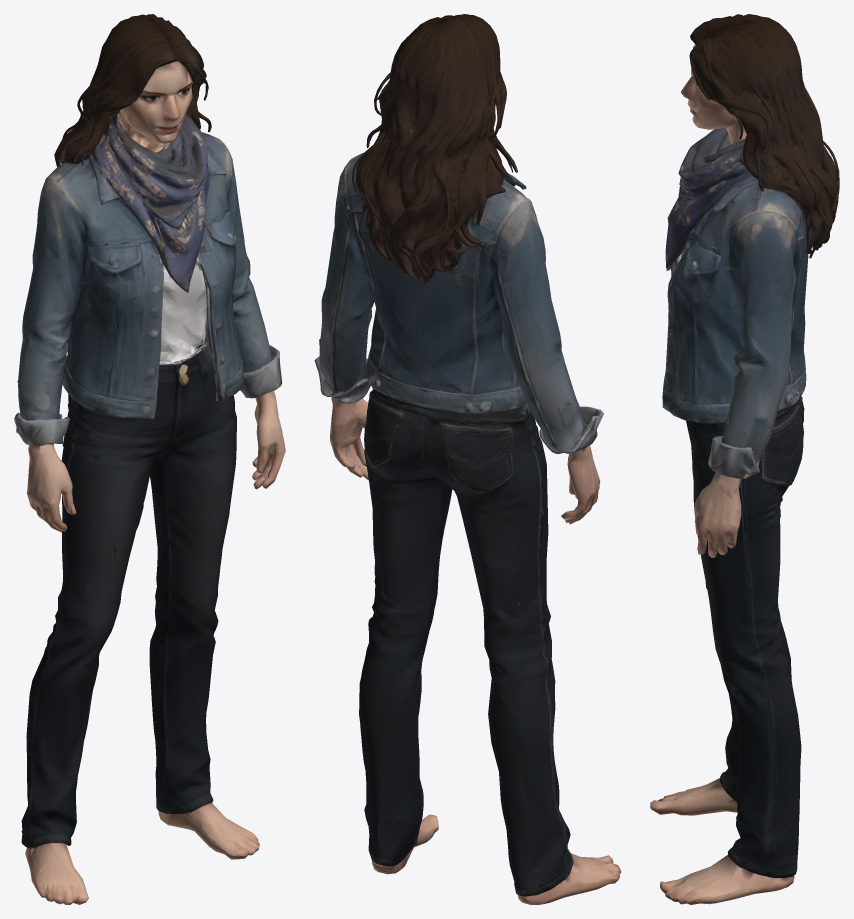
The model's file is elicia_temple.glb.
3 views of the same model, side by side, from view 1: azimuth 30°, elevation 25°; view 2: azimuth 150°, elevation 25°; view 3: azimuth 270°, elevation 25° (orthographic). The views are drawn at different scales.
Parts seen in each view (by area): view 1: Mesh_0; view 2: Mesh_0; view 3: Mesh_0.
Part boxes in pixels (<box>): Mesh_0: <box>14,14,285,904</box>; Mesh_0: <box>314,14,621,904</box>; Mesh_0: <box>650,14,839,904</box>.
Bounding box in the file's own units: 0.6382 × 1.9 × 0.3847.
Materials: 1 (1 with a texture image).
